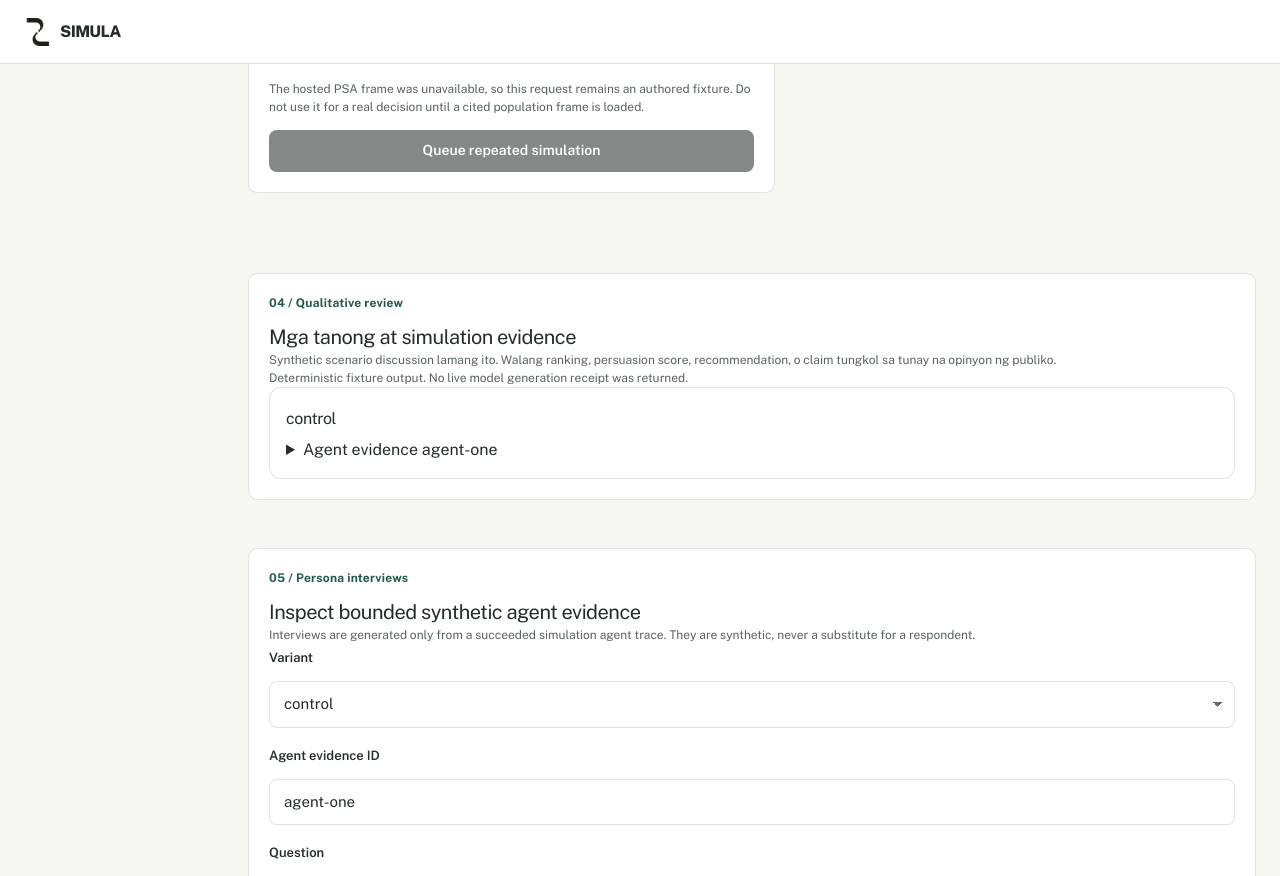
Test: Campaign Lab request lifecycle › shows public-service evidence without rankings or persuasion framing
(page scrolled)
Expected: the heading "Mga tanong at simulation evidence" is shown, [269,325,576,349]
Click the heading "Agent evidence agent-one" at (400, 450), box [303,440,498,459]
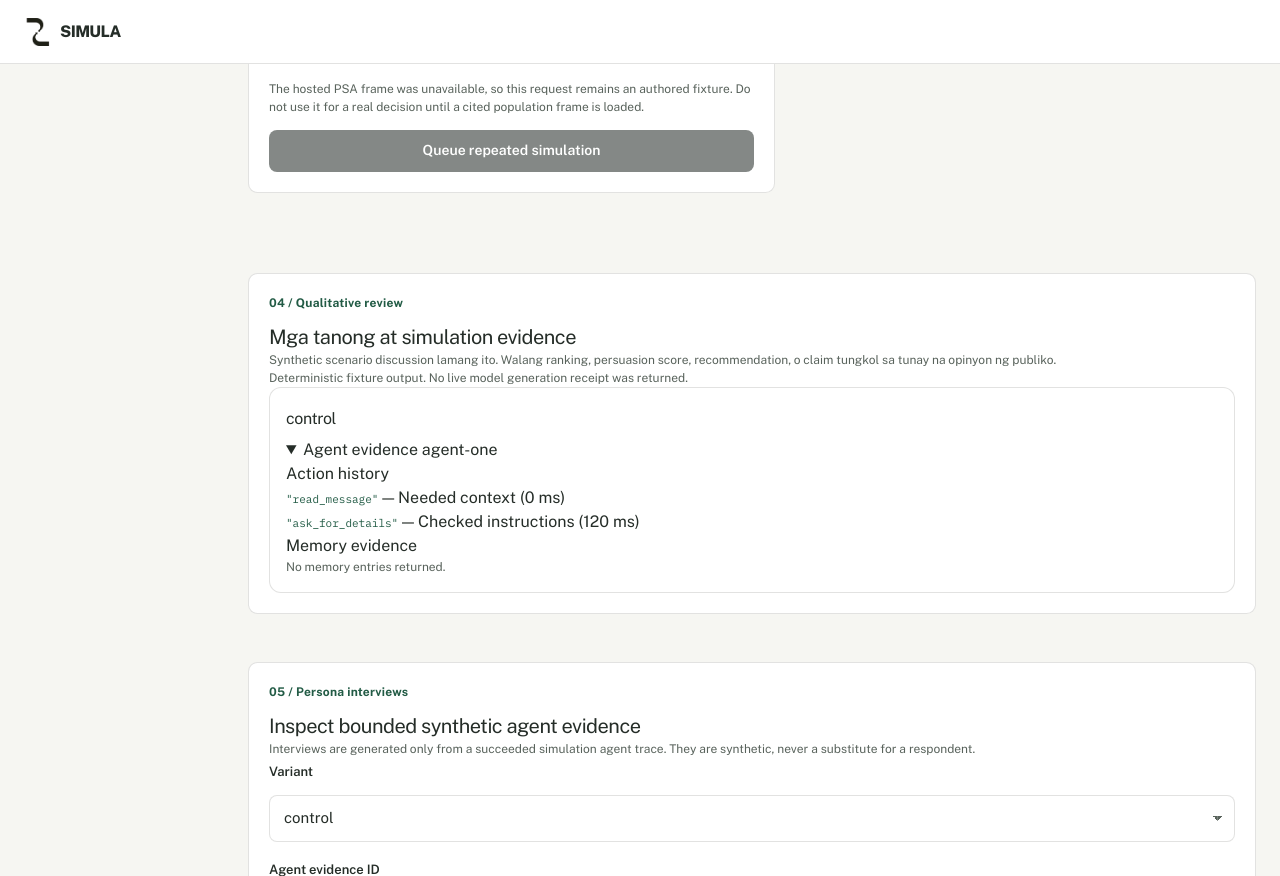
Result: the list item "\"read_message\" — Needed context (0 ms)" is shown at [286,488,565,507]
